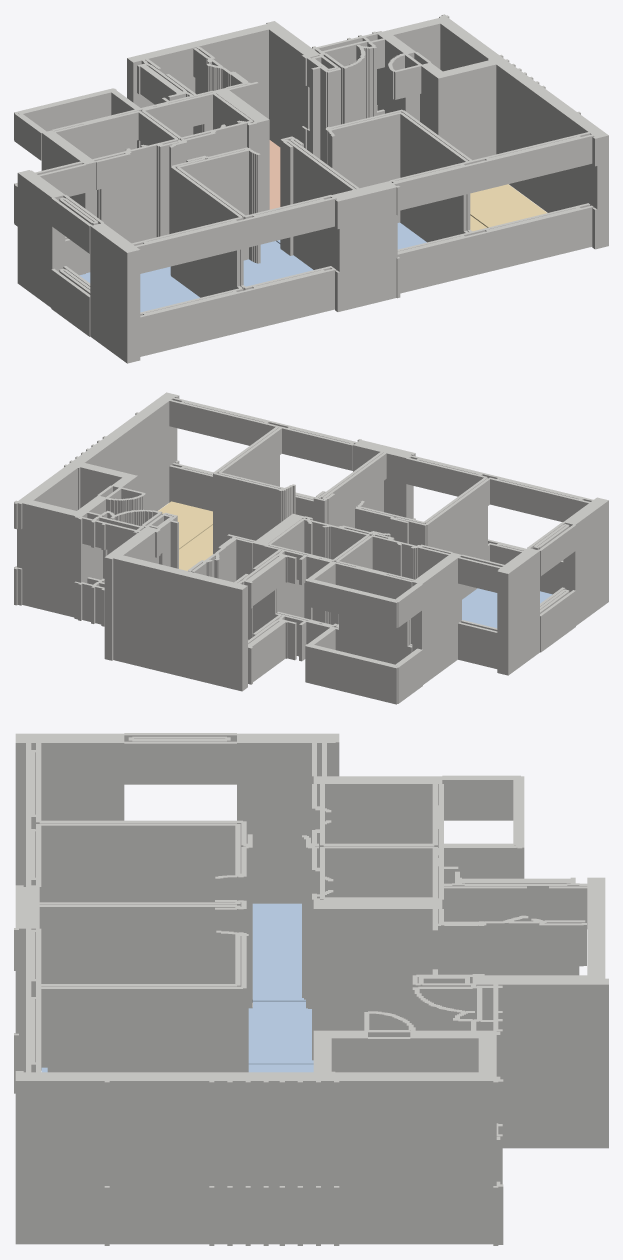
3 renders of one model, top to bottom at view 1: azimuth 30°, elevation 25°; view 2: azimuth 150°, elevation 25°; view 3: azimuth 270°, elevation 25°, orthographic. The views are drawn at different scales.
Parts seen in each view (by area): view 1: walls, room:living:8, room:bedroom:4, room:bedroom:5, room:kitchen:9, room:bedroom:6; view 2: walls, room:bedroom:4, room:living:8, room:living:7; view 3: walls, room:bedroom:4, room:bedroom:5.
Boxes of the visible parts, bbox=[...] form: walls: bbox=[14, 14, 608, 363]; room:living:8: bbox=[470, 184, 546, 227]; room:bedroom:4: bbox=[79, 266, 199, 312]; room:bedroom:5: bbox=[243, 241, 313, 286]; room:kitchen:9: bbox=[269, 140, 280, 209]; room:bedroom:6: bbox=[276, 222, 426, 249]; walls: bbox=[14, 392, 608, 704]; room:bedroom:4: bbox=[462, 588, 552, 628]; room:living:8: bbox=[158, 501, 212, 549]; room:living:7: bbox=[179, 525, 212, 570]; walls: bbox=[14, 733, 608, 1245]; room:bedroom:4: bbox=[252, 903, 305, 1002]; room:bedroom:5: bbox=[248, 1001, 313, 1064].
Bounding box in the file's own units: 12.83 × 2.8 × 9.24.
